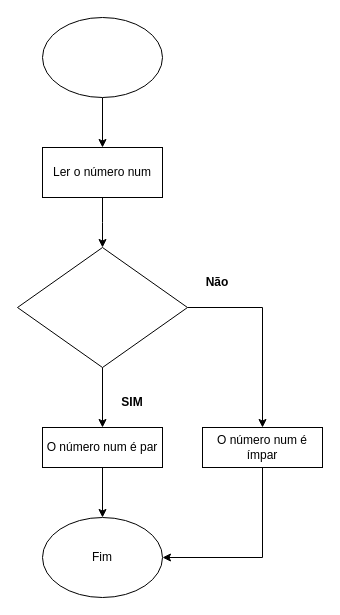
Some shapes in this 340 by 615 pixel diagram are drawn without their labels. The shapes that lost their labels are listed below. From the top down, each one's box as (x1, y1, x2, y2) in pixels, then its label:
(42, 16, 162, 98): Início
(16, 246, 188, 368): O resto da divisão do número num por 2 é 0 ?
